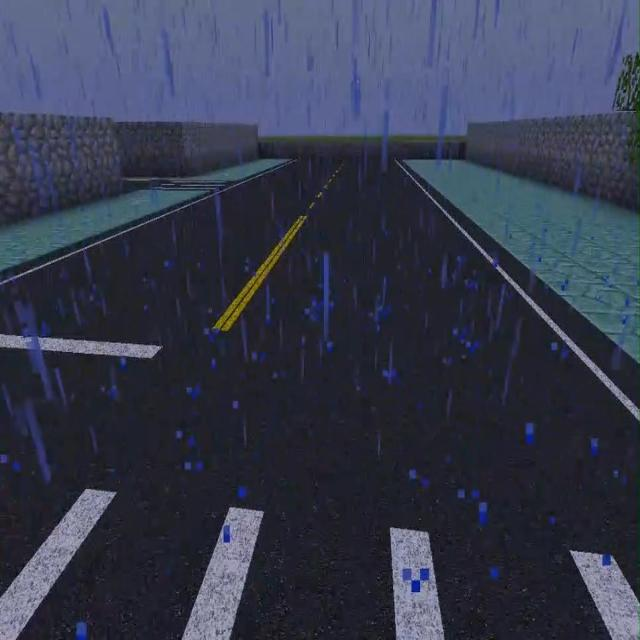8: (0, 484, 639, 639), (140, 181, 233, 190)
crosswalk: (0, 144, 639, 556)
road: (402, 159, 639, 363), (0, 192, 204, 273), (123, 158, 292, 180)
